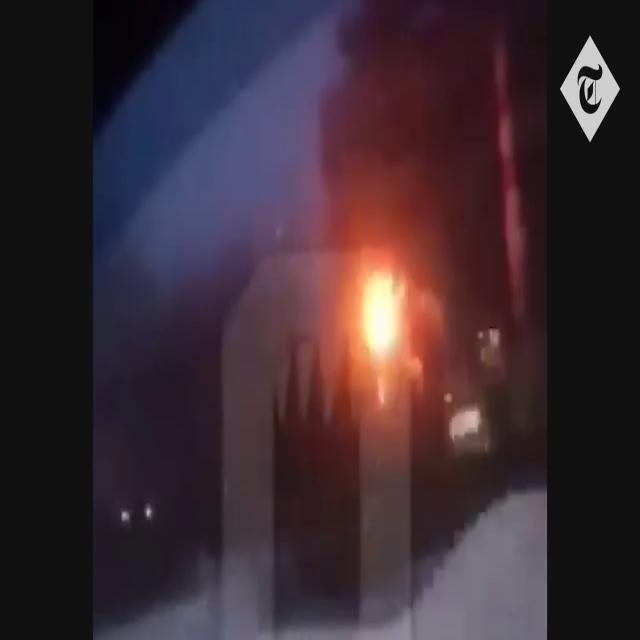Fire: (346, 246, 418, 396)
Smoke: (304, 1, 502, 262)
